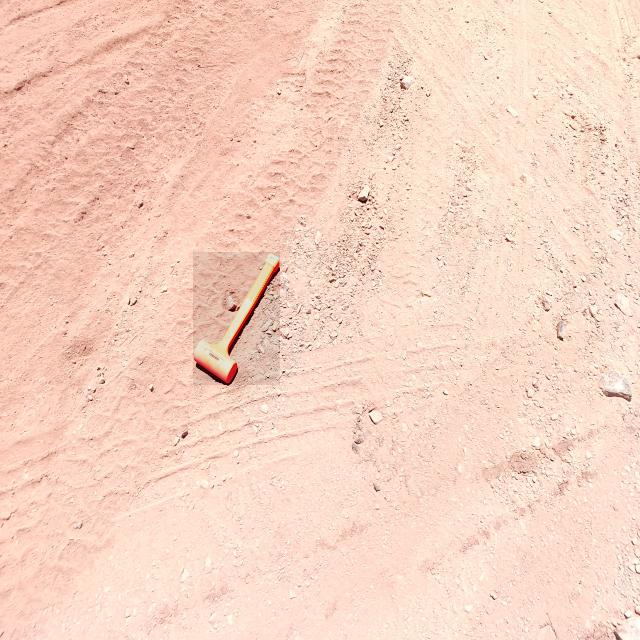Orange_hammer: (193, 252, 280, 385)
